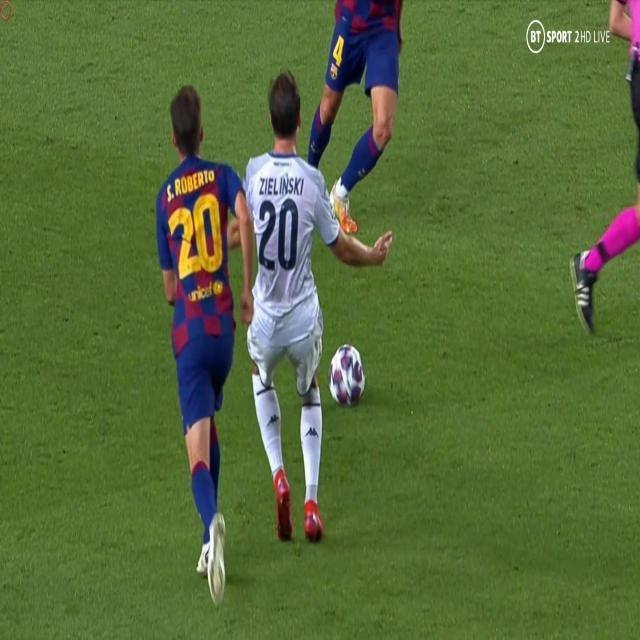ball: (325, 335, 371, 412)
player: (215, 48, 381, 553), (139, 55, 268, 587), (303, 0, 418, 238)
referee: (575, 0, 640, 340)
